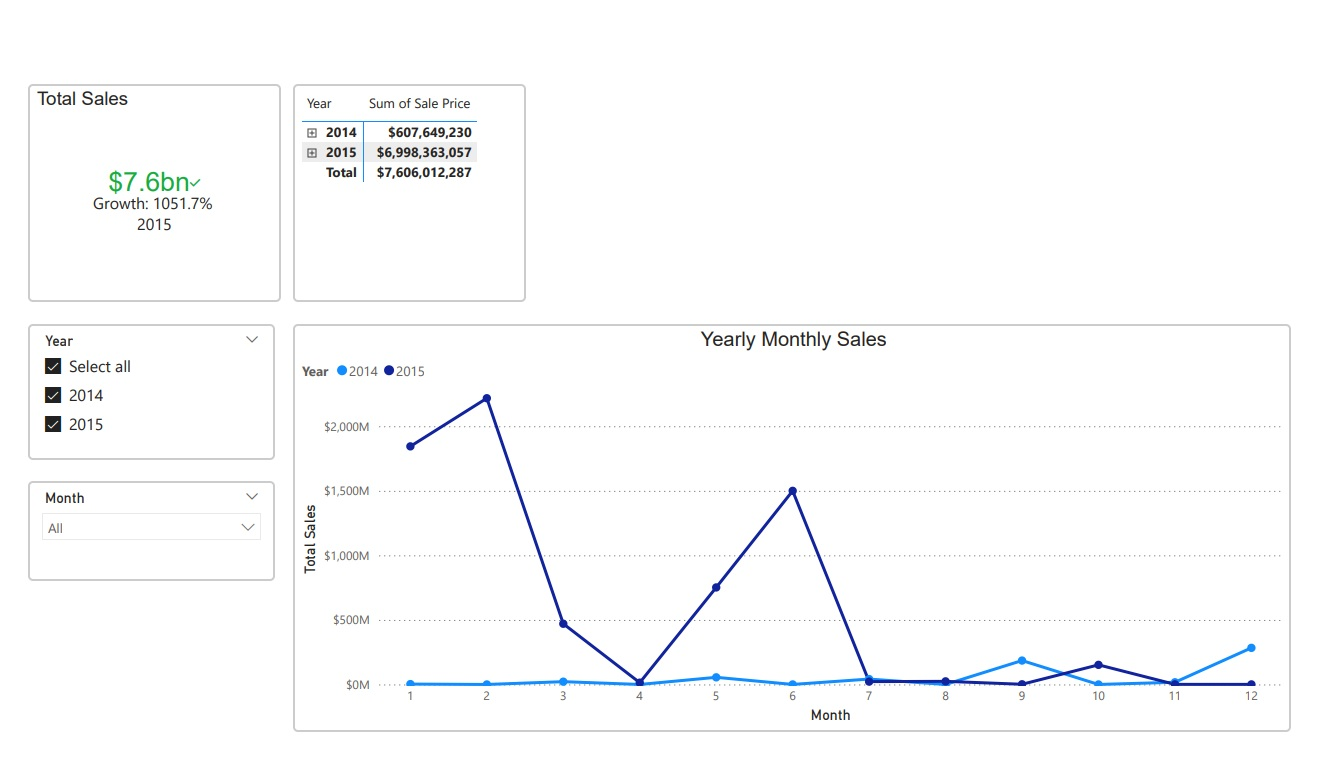

The dashboard page shown, as its layout file describes it:
{"tool":"powerbi","page":{"name":"Total Yearly Monthly Sales","canvas":[1280,720],"ordinal":0},"visuals":[{"type":"pivotTable","fields":{"Values":["Sum(Car Sales.Sale Price)"],"Rows":["Date Table.Year","Date Table.Month"]},"box":[0,0,232.3,588.2],"z":0},{"type":"lineChart","title":"Monthly Total Sales","fields":{"Series":["Date Table.Year"],"Category":["Date Table.Year","Date Table.Month"],"Y":["Car Sales.Total Sales"]},"box":[250.7,11,997.8,362],"z":1000},{"type":"kpi","title":"Total Sales","fields":{"Indicator":["Car Sales.Total Sales","select","select1"],"TrendLine":["Date Table.Year"],"Goal":["Car Sales.Sales YoY Growth"]},"box":[281.3,421.9,253.1,217.7],"z":3000}]}

Visuals, with their boxes in screenshot pixels (x1, y1, x2, y2), scaled from the page's 1280x720 canvas onto the 1326x761 screenshot:
pivotTable - Sum(Car Sales.Sale Price) x Date Table.Year: left=0, top=0, right=241, bottom=622
"Monthly Total Sales" lineChart: left=260, top=12, right=1293, bottom=394
"Total Sales" kpi: left=291, top=446, right=554, bottom=676
